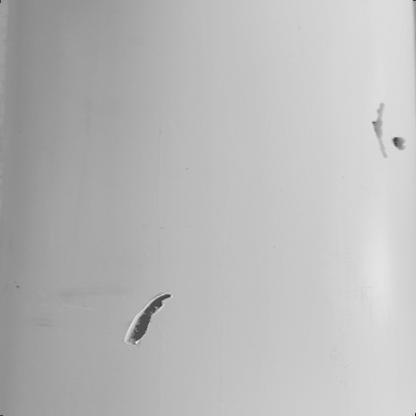kongdong: (112, 290, 184, 350), (366, 99, 395, 165), (390, 129, 410, 159)
